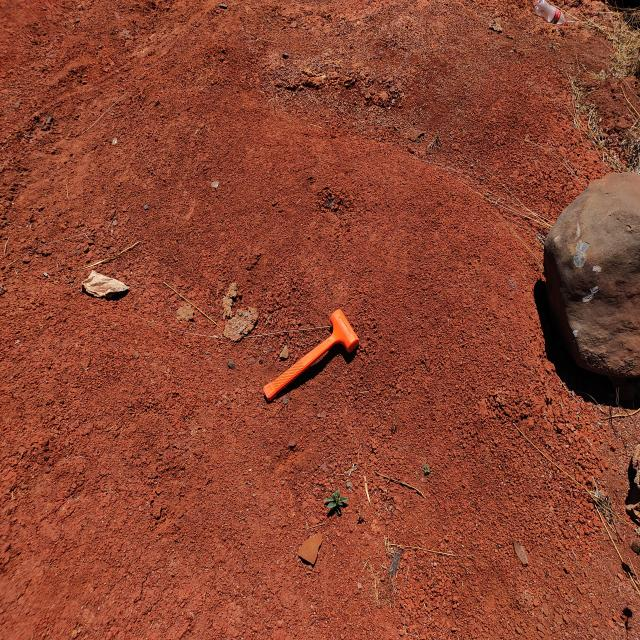Orange_hammer: (262, 307, 360, 403)
